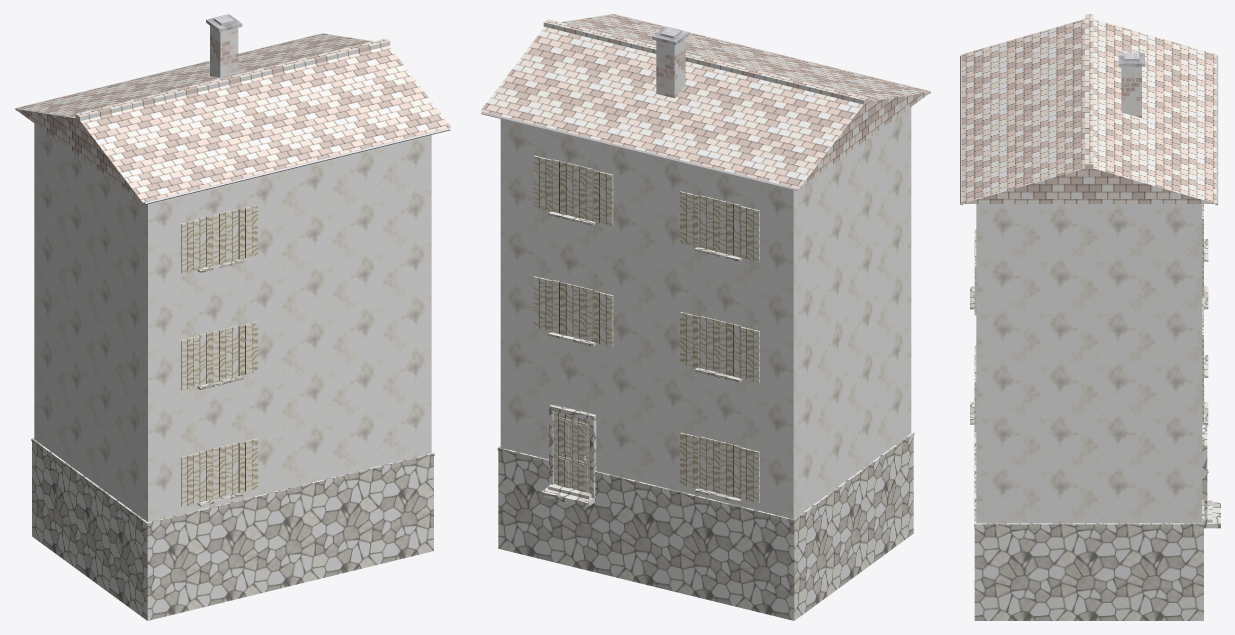
The picture shows the model from 3 angles, left to right: view 1: azimuth 30°, elevation 25°; view 2: azimuth 150°, elevation 25°; view 3: azimuth 270°, elevation 25°; orthographic projection. The views are drawn at different scales.
Visible parts, largest first — view 1: b1096729688; view 2: b1096729688; view 3: b1096729688.
Part boxes in pixels (x1,y1,x2,y2): b1096729688: [15, 14, 451, 620]; b1096729688: [480, 14, 931, 620]; b1096729688: [960, 14, 1220, 620].
Size of the model in its own units: 8.62 by 13.42 by 6.32.
Materials: 18 (18 with a texture image).
